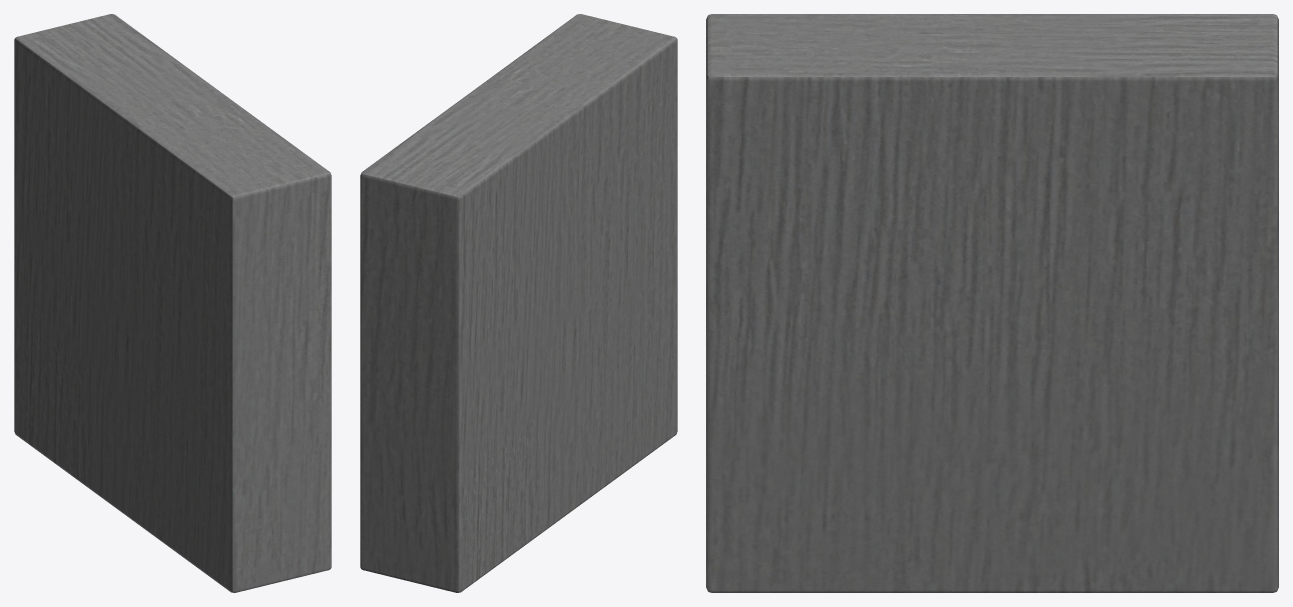
Rendered from Skinny Box UVed OBJ.obj.
3 renders of one model, left to right at view 1: azimuth 30°, elevation 25°; view 2: azimuth 150°, elevation 25°; view 3: azimuth 270°, elevation 25°, orthographic. The views are drawn at different scales.
Parts seen in each view (by area): view 1: pCube13; view 2: pCube13; view 3: pCube13.
Part boxes in pixels (left/top/right/bottom): pCube13: left=14, top=14, right=331, bottom=592; pCube13: left=360, top=14, right=677, bottom=592; pCube13: left=706, top=14, right=1278, bottom=592.
Bounding box in the file's own units: 25.35 × 95.25 × 95.25.
1 material, 1 textured.
